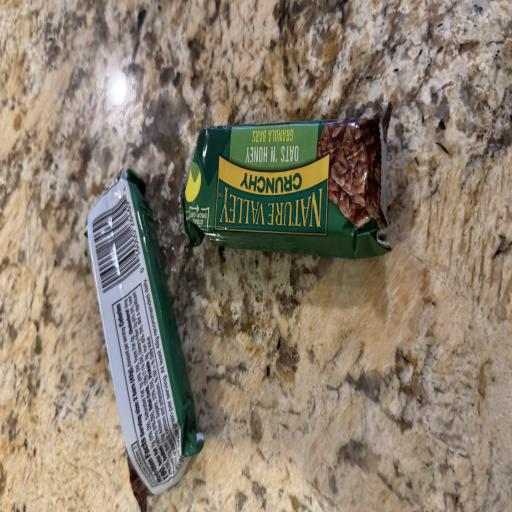granola: (87, 169, 203, 493), (182, 104, 391, 258)
